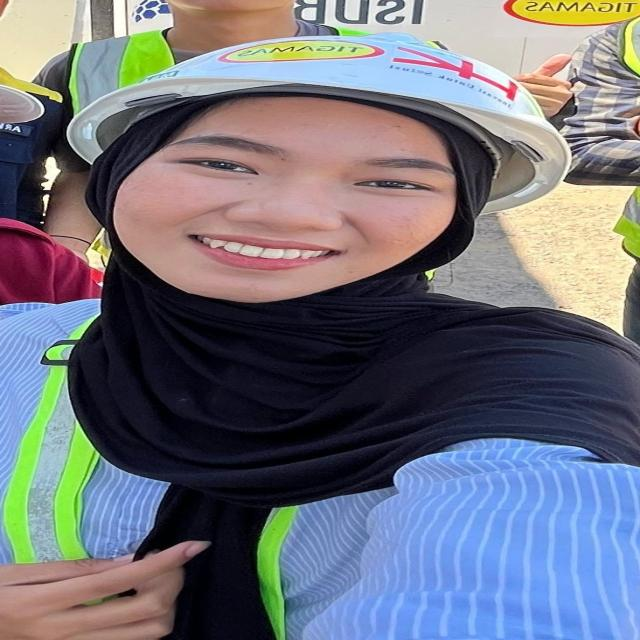safetyhelmet: (21, 29, 593, 320)
